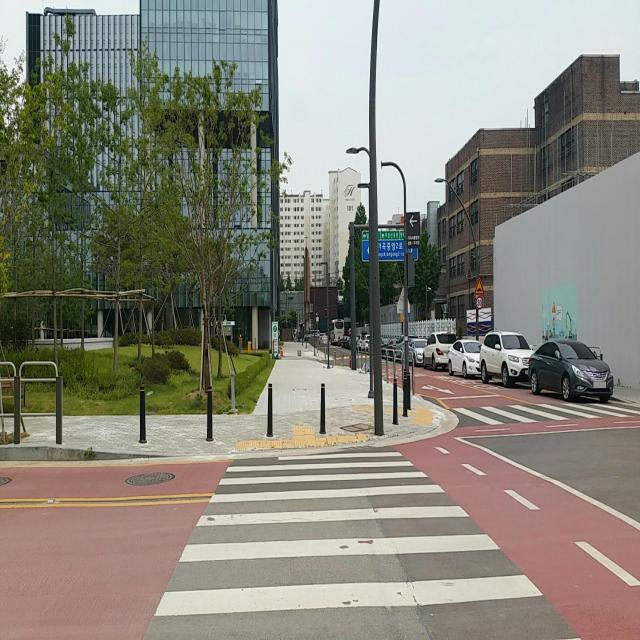횡단보도: (154, 450, 543, 639), (448, 396, 640, 427)
